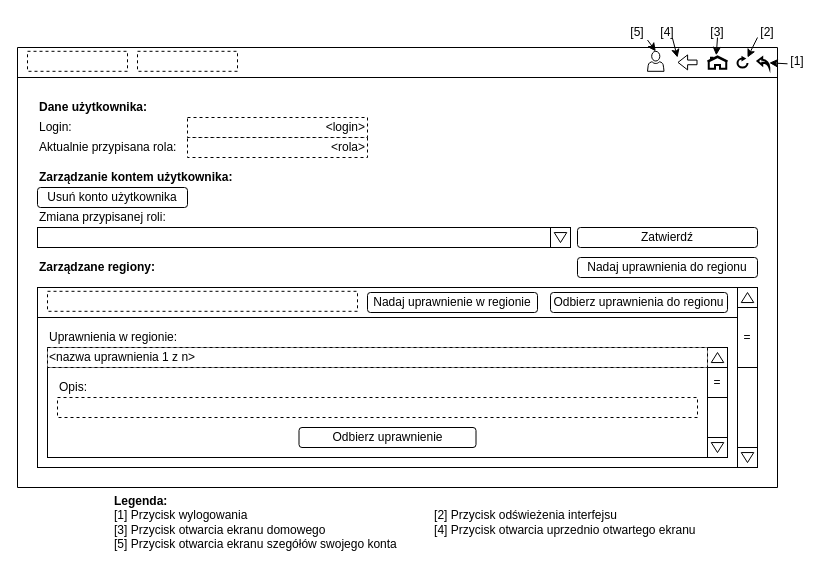
This 825x574 diagram has some shape labels left out. The shapes that lost their labels are listed below. From the top down, each one's centre as x and y in pixels, then its label:
(77,60): login
(187,60): rola
(297,237): lista jednokrotnego wyboru z listy dostępnych ról
(202,300): <województwo>
(377,407): opis typu uprawnień 1 z n
